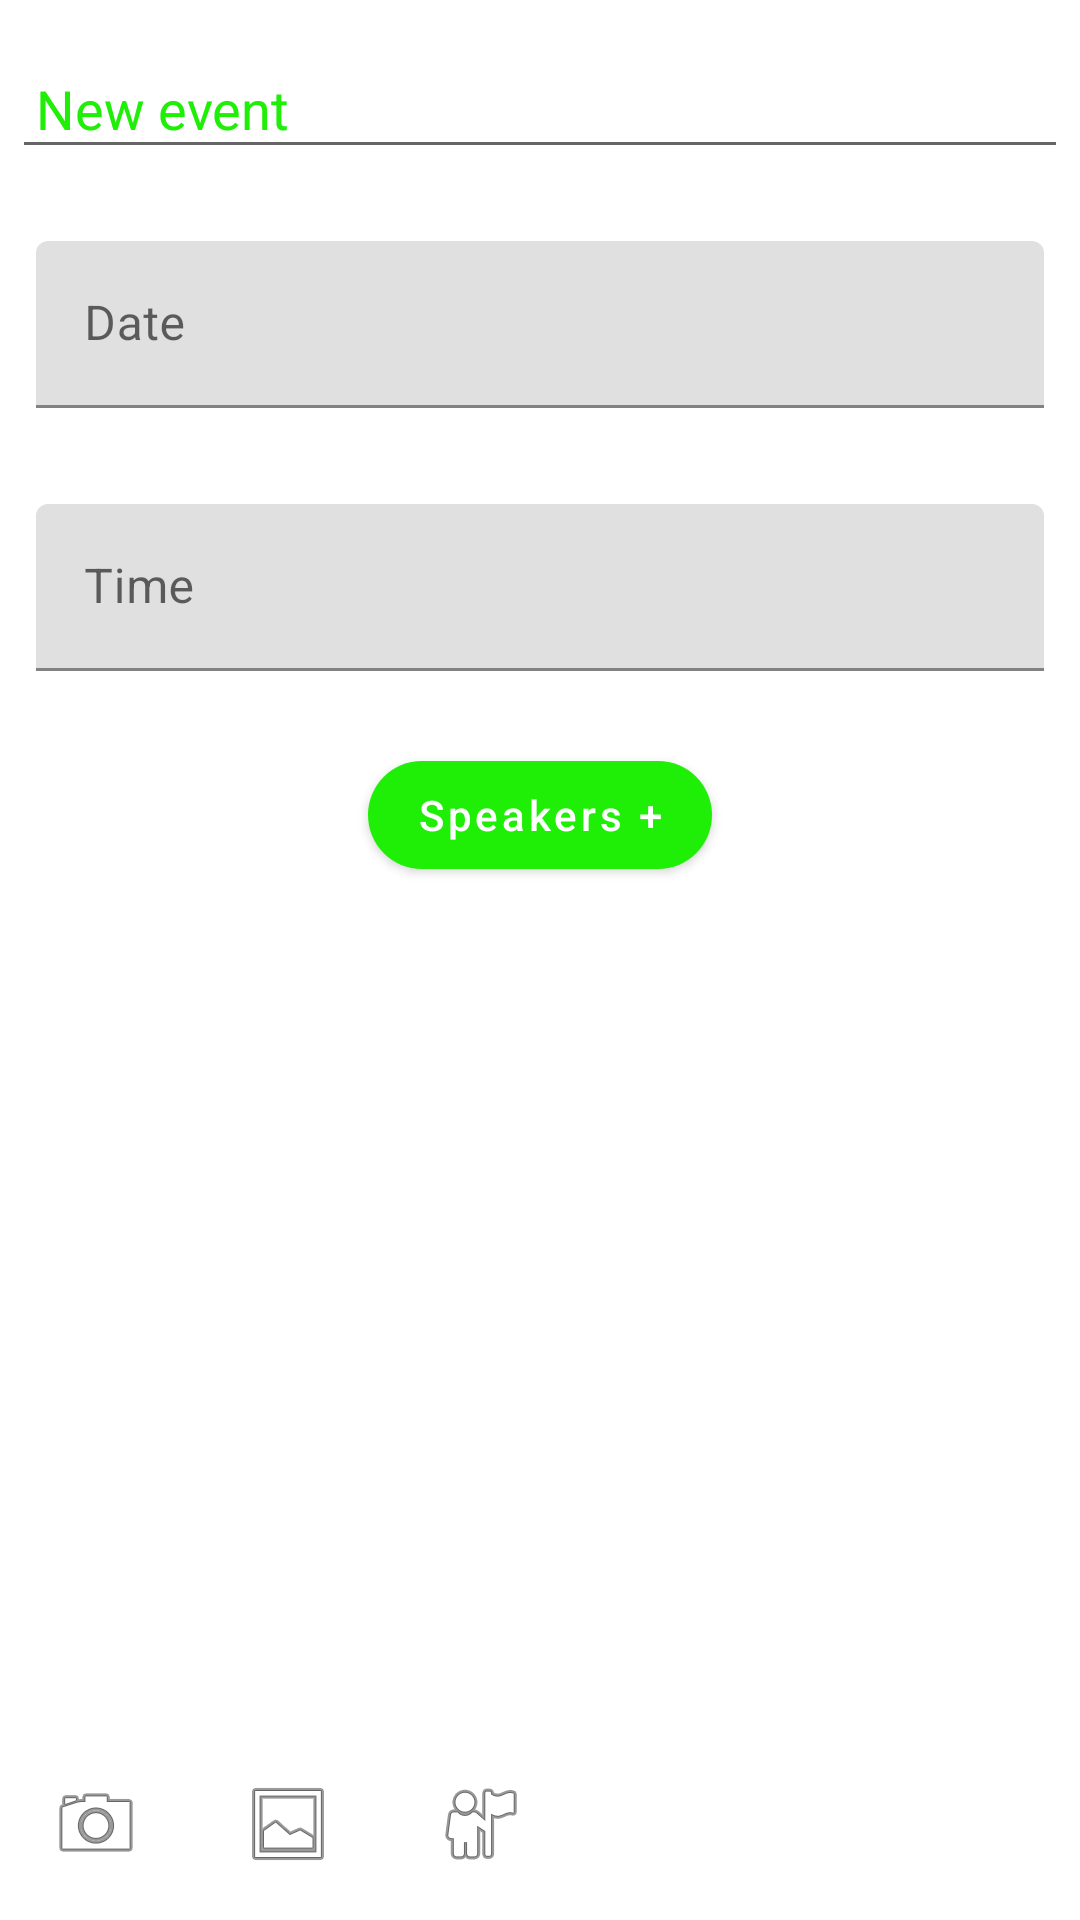

Icon click points for this 1080w x 1920h phone screenshot, format [x,y]:
camera: [96,1822]
gallery: [288,1824]
myplaces: [481,1824]
